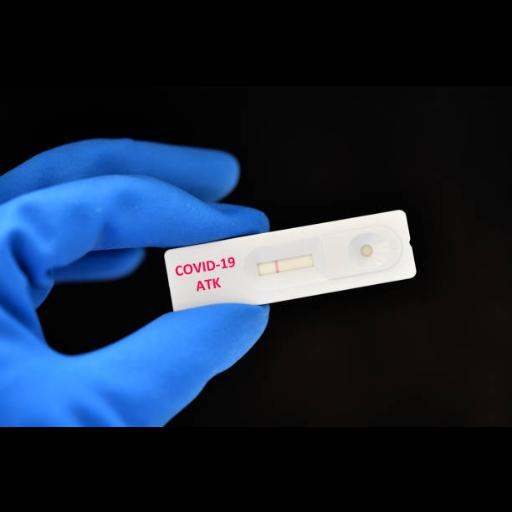Neg: (164, 208, 417, 312)
